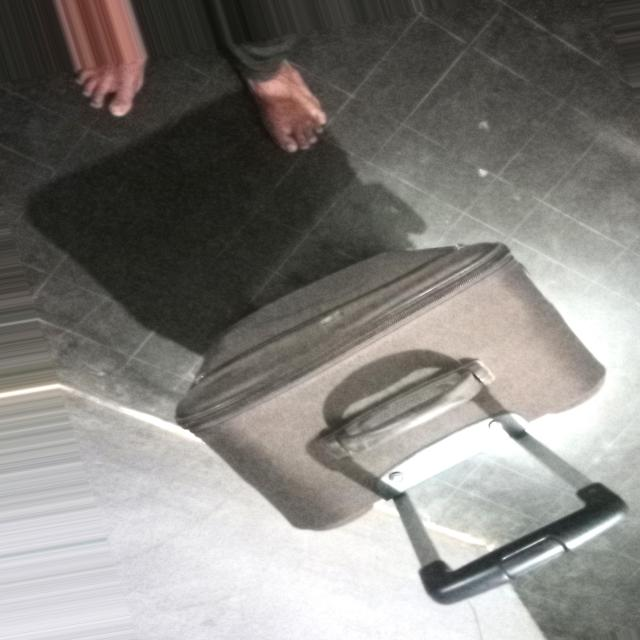Bag: (170, 232, 640, 640)
Handle: (378, 422, 640, 617)
